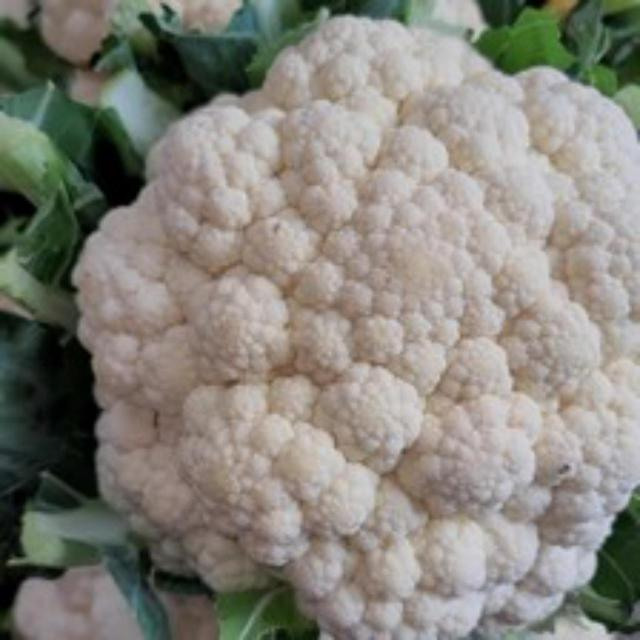cauliflower: (71, 0, 637, 637)
